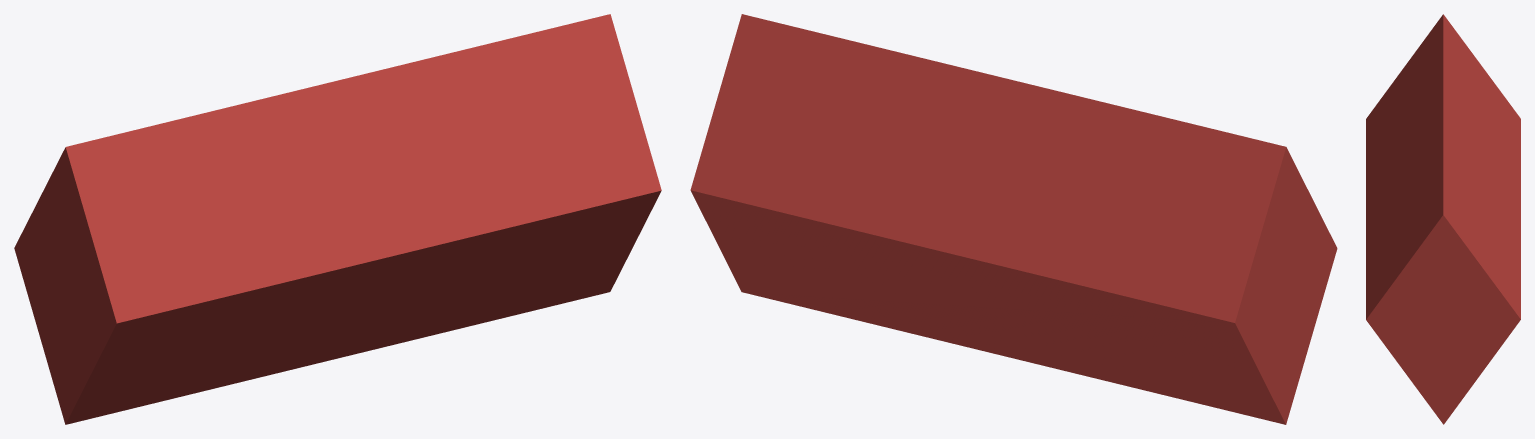
Rendered from alu_pannier_lod2.glb.
3 views of the same model, side by side, from view 1: azimuth 30°, elevation 25°; view 2: azimuth 150°, elevation 25°; view 3: azimuth 270°, elevation 25° (orthographic). The views are drawn at different scales.
Parts seen in each view (by area): view 1: alu_pannier_lod2; view 2: alu_pannier_lod2; view 3: alu_pannier_lod2.
Part boxes in pixels (left/top/right/bottom): alu_pannier_lod2: left=14, top=14, right=661, bottom=424; alu_pannier_lod2: left=690, top=14, right=1337, bottom=424; alu_pannier_lod2: left=1366, top=14, right=1520, bottom=424.
Bounding box in the file's own units: 0.46 × 0.2244 × 0.15.
